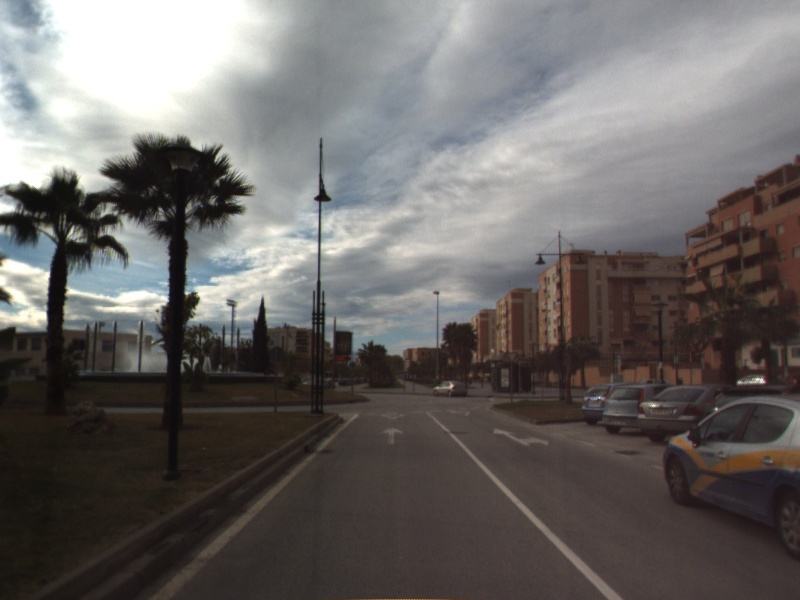STRAIGHT: (379, 425, 406, 446)
STRAIGHT_RIGHT: (491, 426, 551, 448)
